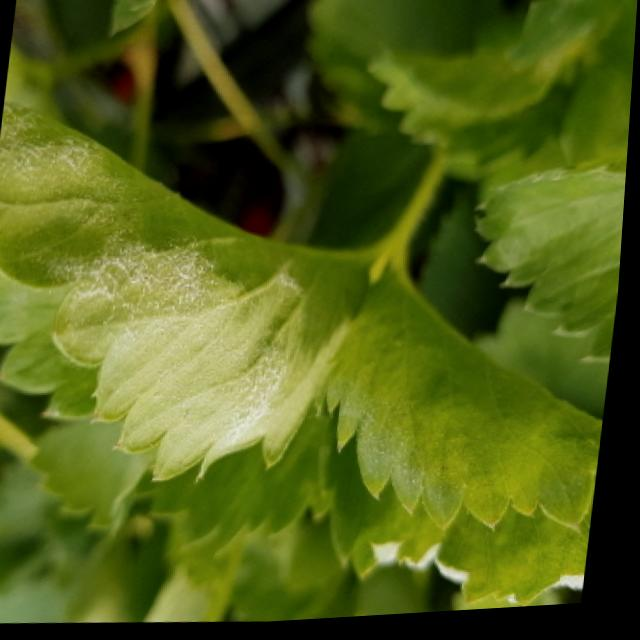Powdery Mildew Leaf: (0, 101, 383, 489), (316, 266, 610, 614)
